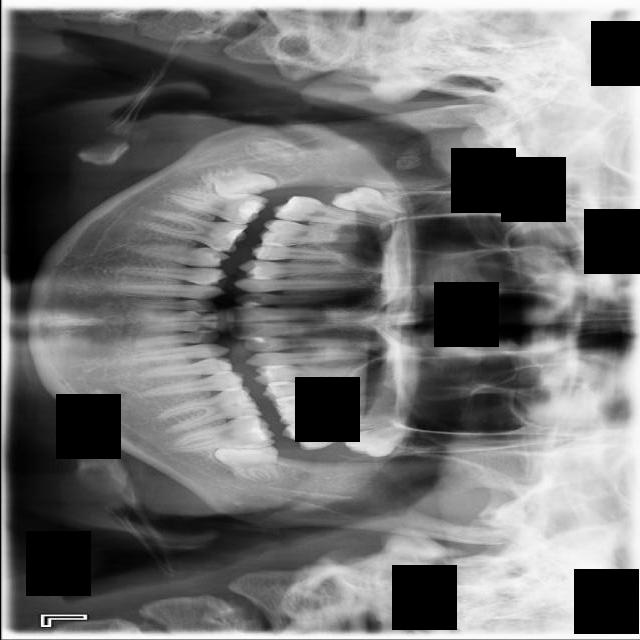3M ESPE Implant: (329, 181, 407, 220)
52: (218, 182, 271, 237), (201, 216, 249, 255), (243, 337, 281, 352), (235, 293, 274, 307)
73: (54, 592, 70, 600)
BioHorizons Implant: (279, 412, 403, 452)
BioLife Implant: (342, 418, 421, 465)
Biomet 3i Implant: (213, 444, 282, 485)
Blue Sky Bio Implant: (166, 414, 275, 455)
Caries: (270, 193, 380, 229)
Implant: (169, 186, 269, 228)
Keystone Dental Implant: (204, 160, 277, 204)
